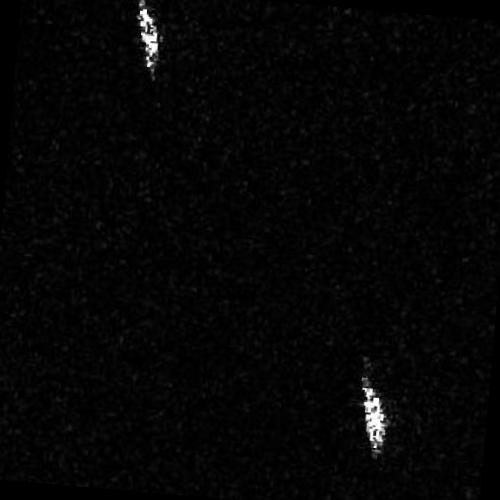ship: (361, 374, 387, 463), (137, 0, 159, 68)
